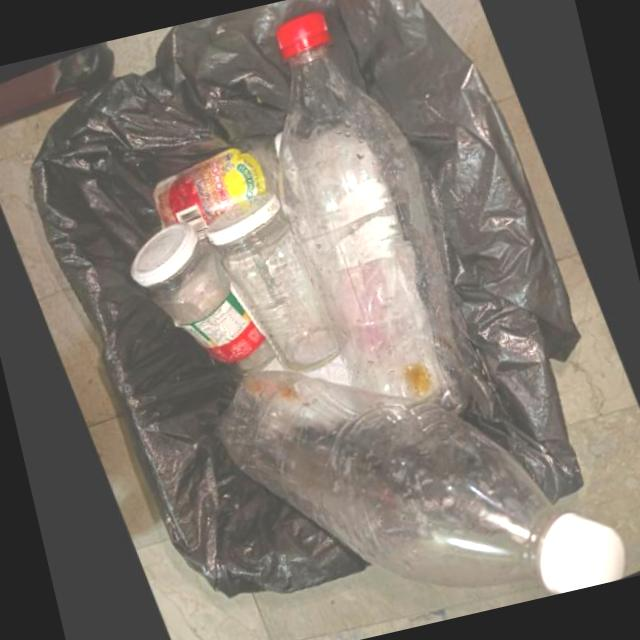chai_nhua_pet: (218, 367, 626, 593), (277, 8, 473, 414)
chai_thuy_tinh: (204, 189, 339, 371), (130, 219, 276, 372), (151, 129, 283, 238)
